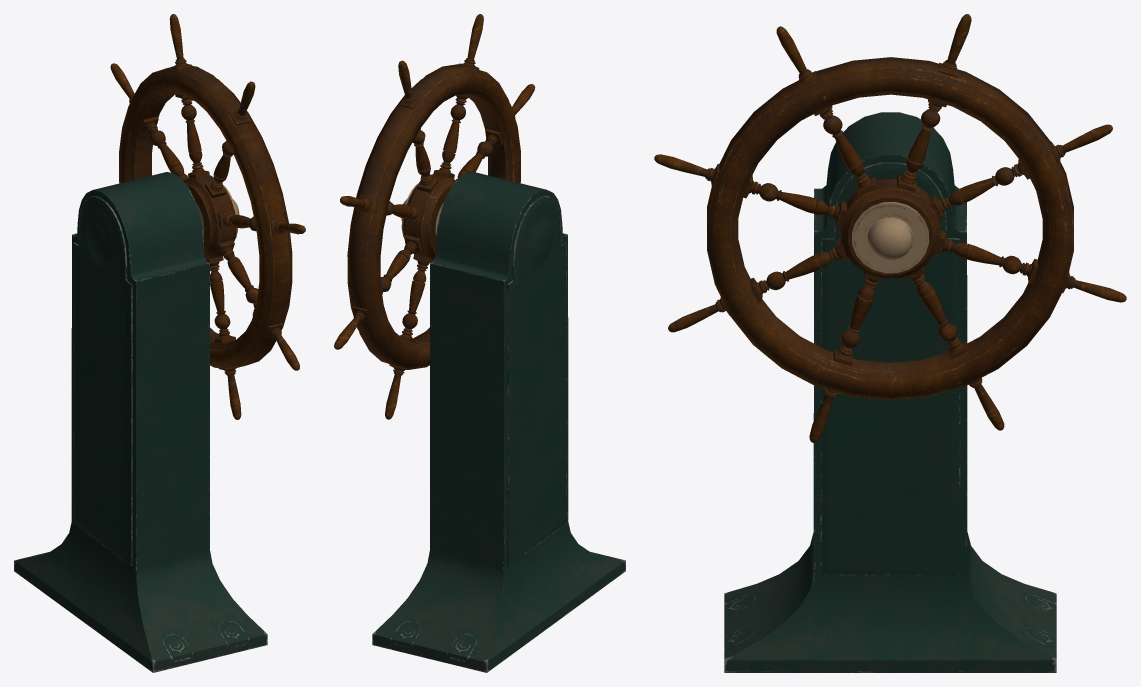
File: rudder.glb
The picture shows the model from 3 angles, left to right: view 1: azimuth 30°, elevation 25°; view 2: azimuth 150°, elevation 25°; view 3: azimuth 270°, elevation 25°; orthographic projection. The views are drawn at different scales.
Parts seen in each view (by area): view 1: rudder_lp; view 2: rudder_lp; view 3: rudder_lp.
Boxes of the visible parts, x1=… form: rudder_lp: x1=14, y1=14, x2=305, y2=672; rudder_lp: x1=334, y1=14, x2=625, y2=672; rudder_lp: x1=654, y1=14, x2=1126, y2=672.
Bounding box in the file's own units: 46.55 × 162 × 105.
Materials: 1 (1 with a texture image).
